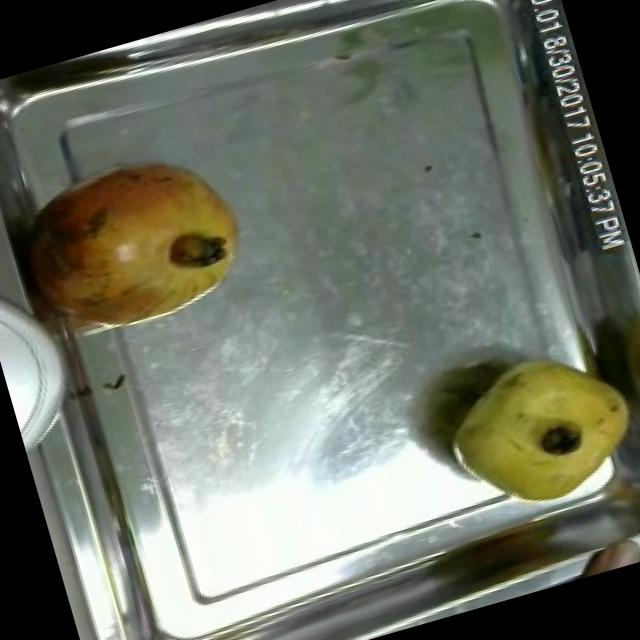fruit: (0, 121, 272, 361), (424, 331, 640, 530), (555, 528, 640, 583)
